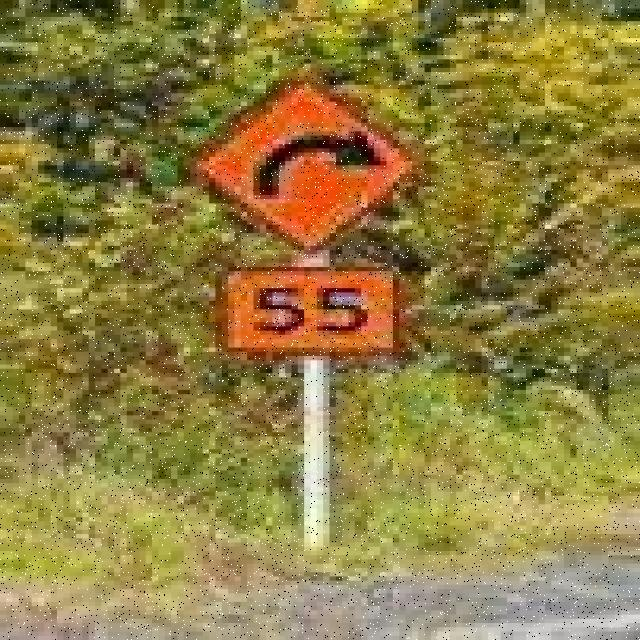Uturn: (195, 79, 411, 257)
